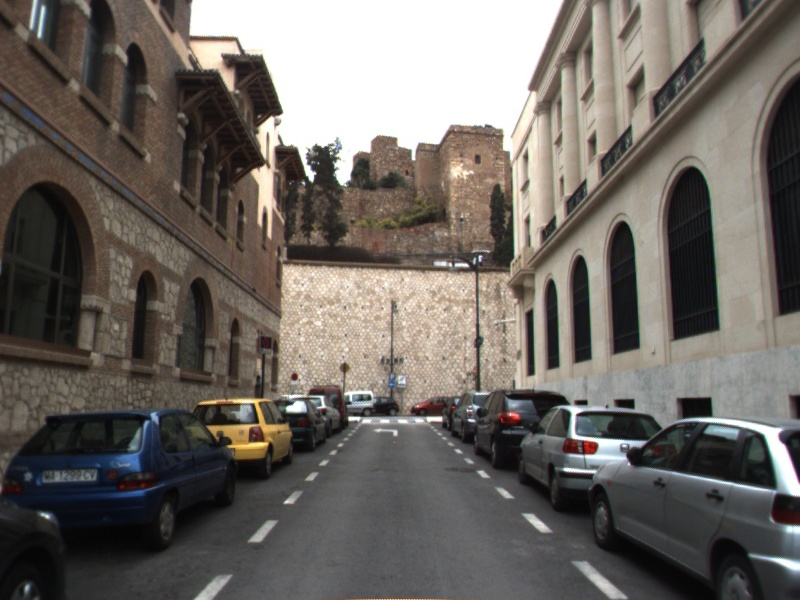LEFT: (371, 426, 401, 438)
